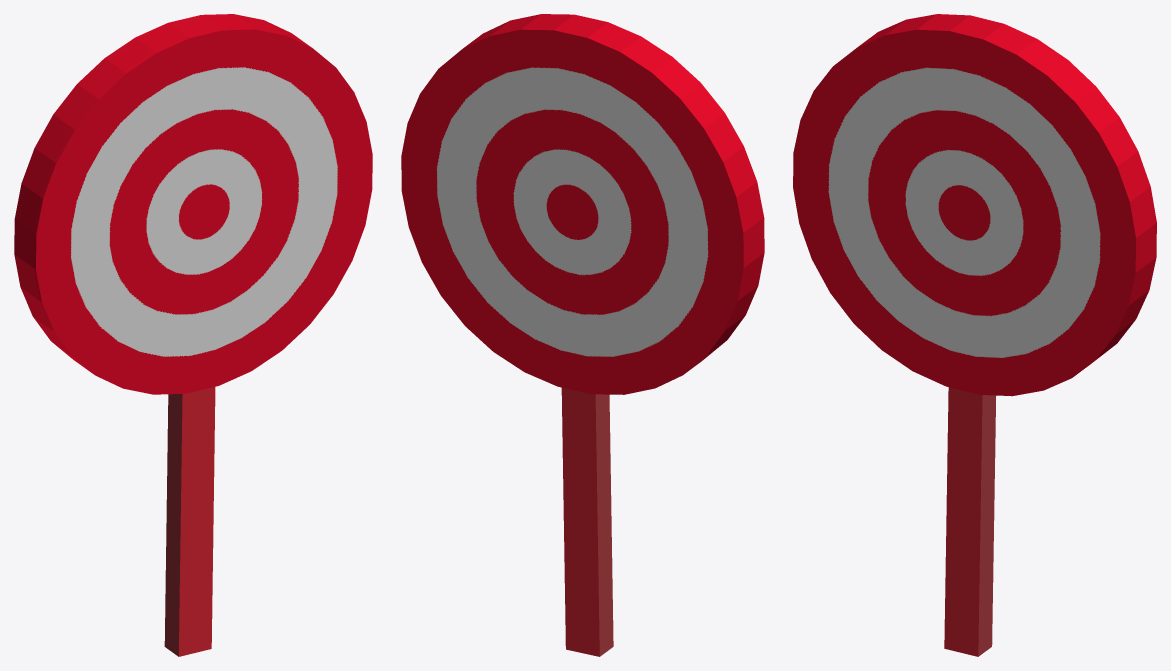
File: Target.obj
3 renders of one model, left to right at view 1: azimuth 30°, elevation 25°; view 2: azimuth 150°, elevation 25°; view 3: azimuth 330°, elevation 25°, orthographic.
Visible parts, largest first — view 1: Target; view 2: Target; view 3: Target.
Part boxes in pixels (x1=…): Target: x1=14, y1=14, x2=372, y2=656; Target: x1=401, y1=14, x2=764, y2=656; Target: x1=793, y1=14, x2=1156, y2=656.
Bounding box in the file's own units: 0.1846 × 0.3216 × 0.0222.
1 material, 1 textured.
